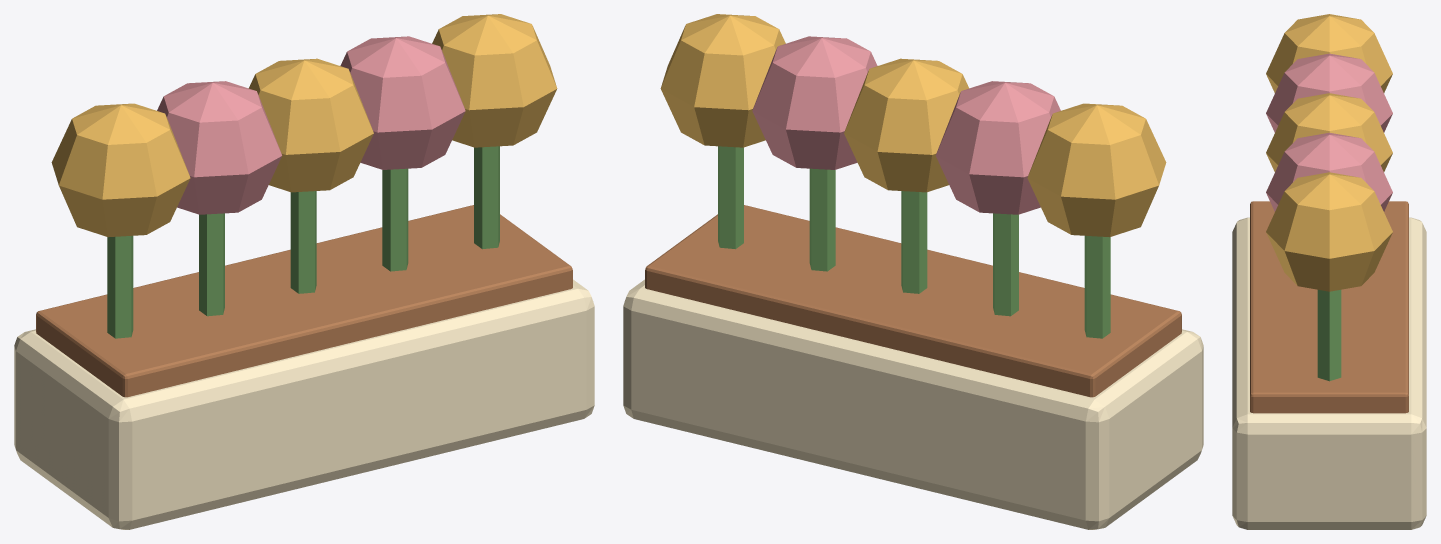
The model's file is flowers.glb.
3 views of the same model, side by side, from view 1: azimuth 30°, elevation 25°; view 2: azimuth 150°, elevation 25°; view 3: azimuth 270°, elevation 25° (orthographic). The views are drawn at different scales.
Parts seen in each view (by area): view 1: flowers; view 2: flowers; view 3: flowers.
Boxes of the visible parts, x1,y1,x2,y2 form: flowers: (14,14,594,529); flowers: (623,14,1203,529); flowers: (1232,14,1426,529).
Bounding box in the file's own units: 1.42 × 1.05 × 0.55.
